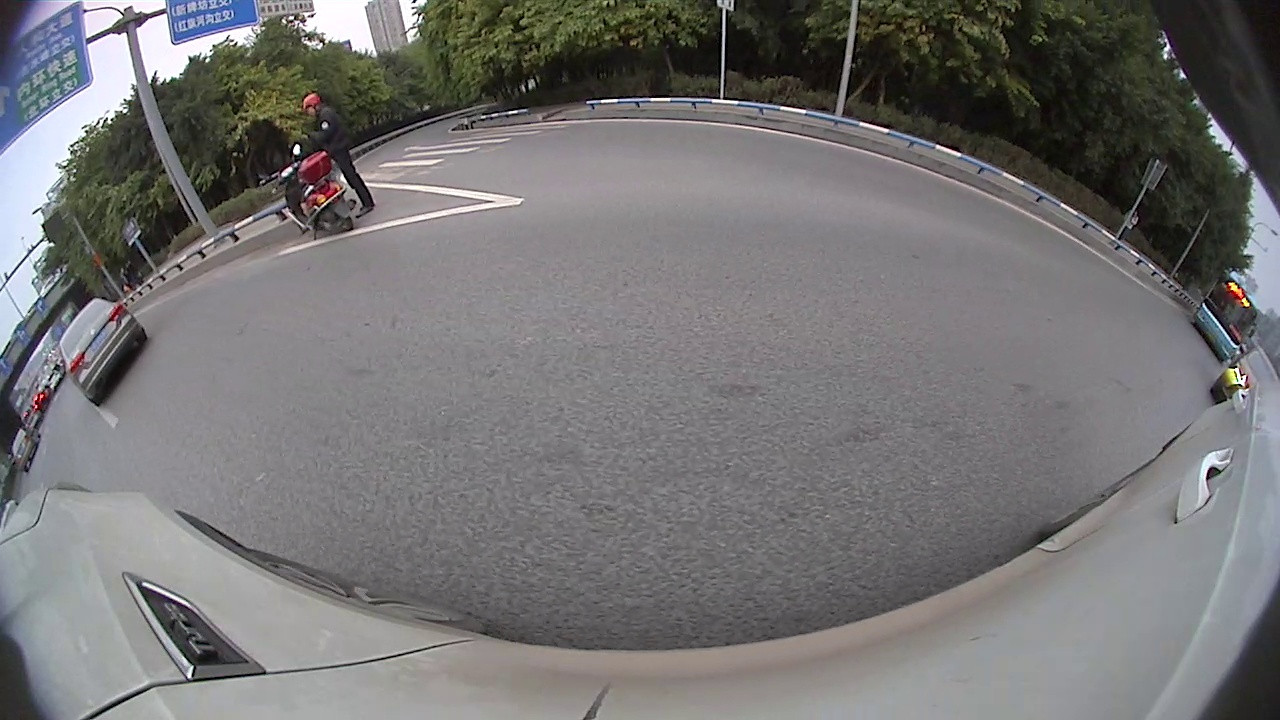bus: (1193, 269, 1261, 366)
car: (57, 297, 148, 408), (1209, 348, 1278, 403), (12, 427, 40, 470)
person: (311, 95, 344, 224)
rear: (130, 327, 149, 346), (90, 389, 108, 409)
rider: (260, 142, 352, 237)
